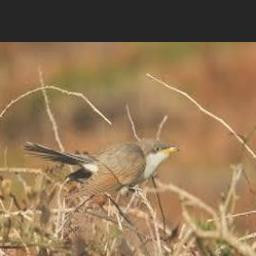Cuckoo: (25, 140, 182, 195)
